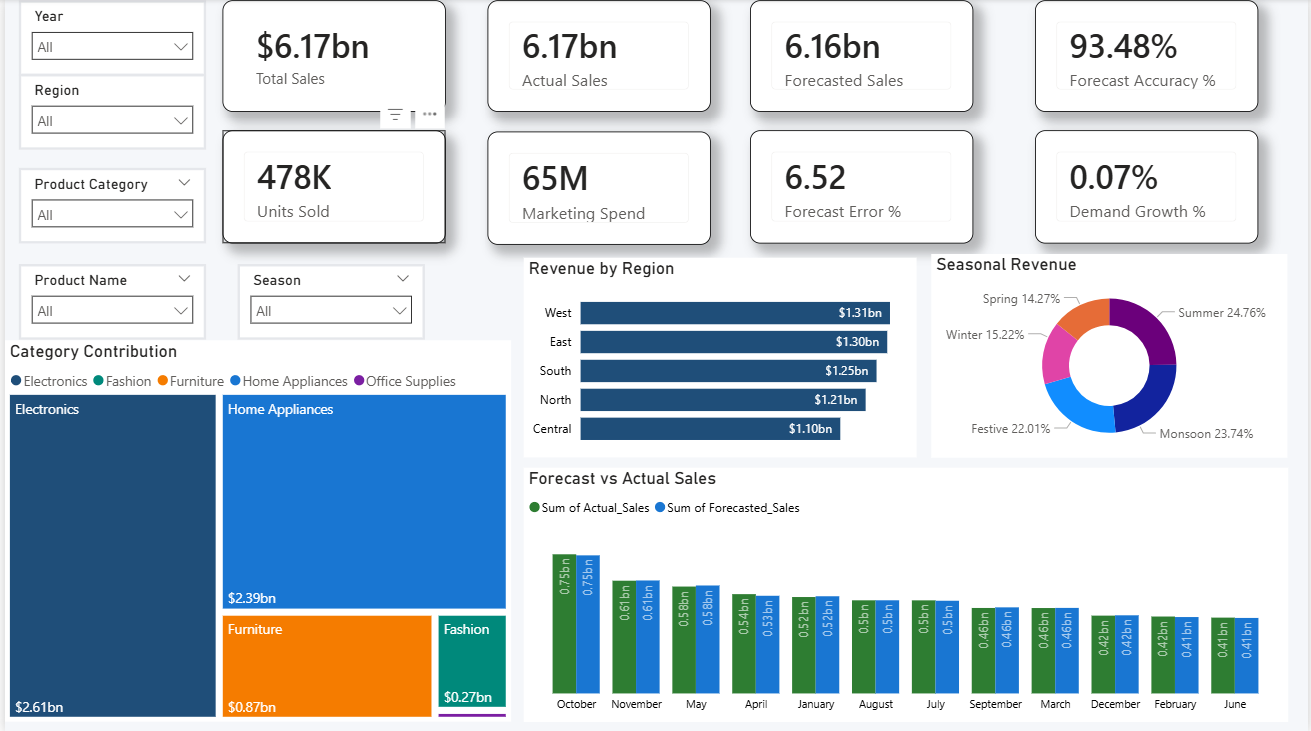

What the dashboard file says about the page in this screenshot:
{"tool":"powerbi","page":{"name":"Sales Forecasting & Demand Prediction Dashboard","canvas":[1280,720],"ordinal":0},"visuals":[{"type":"cardVisual","fields":{"Data":["DAX.Total Sales"]},"box":[214.1,1.4,219.6,109.8],"z":0},{"type":"cardVisual","fields":{"Data":["DAX.Demand Growth %"]},"box":[1011,128.8,213.5,111.7],"z":1000},{"type":"cardVisual","fields":{"Data":["DAX.Actual Sales"]},"box":[473.4,1.4,219.6,109.8],"z":2000},{"type":"cardVisual","fields":{"Data":["DAX.Total Units Sold"]},"box":[214.1,129,219.6,111.1],"z":3000},{"type":"cardVisual","fields":{"Data":["DAX.Forecasted Sales"]},"box":[731.4,1.4,219.6,109.8],"z":4000},{"type":"cardVisual","fields":{"Data":["DAX.Forecast Accuracy %"]},"box":[1011,1.2,213.5,110.4],"z":5000},{"type":"cardVisual","fields":{"Data":["DAX.Marketing Spend"]},"box":[473.4,130.4,219.6,111.1],"z":6000},{"type":"cardVisual","fields":{"Data":["DAX.Forecast Error %"]},"box":[731.4,129,219.6,111.1],"z":7000},{"type":"slicer","fields":{"Values":["Fact_Sales.Year"]},"box":[13.7,1.4,183.9,74.1],"z":8000},{"type":"slicer","fields":{"Values":["Fact_Sales.Region"]},"box":[13.7,74.1,183.9,74.1],"z":9000},{"type":"slicer","fields":{"Values":["Fact_Sales.Product_Name"]},"box":[13.7,260.7,183.9,74.1],"z":10000},{"type":"slicer","fields":{"Values":["Fact_Sales.Product_Category"]},"box":[13.7,166,183.9,74.1],"z":11000},{"type":"slicer","fields":{"Values":["Fact_Sales.Season"]},"box":[227.8,260.7,183.9,74.1],"z":12000},{"type":"clusteredColumnChart","title":"Forecast vs Actual Sales","fields":{"Y":["Sum(Fact_Sales.Forecasted_Sales)","Sum(Fact_Sales.Actual_Sales)"],"Category":["Dim_Date.Date.Variation.Date Hierarchy.Month"]},"box":[509.1,459.7,750.6,249.7],"z":13000},{"type":"barChart","title":"Revenue by Region","fields":{"Category":["Fact_Sales.Region"],"Y":["DAX.Total Sales"]},"box":[509.1,253.9,385.6,196.2],"z":14000},{"type":"treemap","title":"Category Contribution","fields":{"Values":["DAX.Total Sales"],"Details":["Fact_Sales.Product_Category"]},"box":[0,334.8,496.7,374.6],"z":15000},{"type":"donutChart","title":"Seasonal Revenue","fields":{"Category":["Fact_Sales.Season"],"Y":["DAX.Total Sales"]},"box":[909.8,249.7,349.9,200.3],"z":16000}]}

Visuals, with their boxes in screenshot pixels (x1, y1, x2, y2), scaled from the page's 1280x720 canvas onto the 1311x731 screenshot:
cardVisual - DAX.Total Sales: bbox=[219, 1, 444, 113]
cardVisual - DAX.Demand Growth %: bbox=[1035, 131, 1254, 244]
cardVisual - DAX.Actual Sales: bbox=[485, 1, 710, 113]
cardVisual - DAX.Total Units Sold: bbox=[219, 131, 444, 244]
cardVisual - DAX.Forecasted Sales: bbox=[749, 1, 974, 113]
cardVisual - DAX.Forecast Accuracy %: bbox=[1035, 1, 1254, 113]
cardVisual - DAX.Marketing Spend: bbox=[485, 132, 710, 245]
cardVisual - DAX.Forecast Error %: bbox=[749, 131, 974, 244]
slicer - Fact_Sales.Year: bbox=[14, 1, 202, 77]
slicer - Fact_Sales.Region: bbox=[14, 75, 202, 150]
slicer - Fact_Sales.Product_Name: bbox=[14, 265, 202, 340]
slicer - Fact_Sales.Product_Category: bbox=[14, 169, 202, 244]
slicer - Fact_Sales.Season: bbox=[233, 265, 422, 340]
"Forecast vs Actual Sales" clusteredColumnChart: bbox=[521, 467, 1290, 720]
"Revenue by Region" barChart: bbox=[521, 258, 916, 457]
"Category Contribution" treemap: bbox=[0, 340, 509, 720]
"Seasonal Revenue" donutChart: bbox=[932, 254, 1290, 457]
